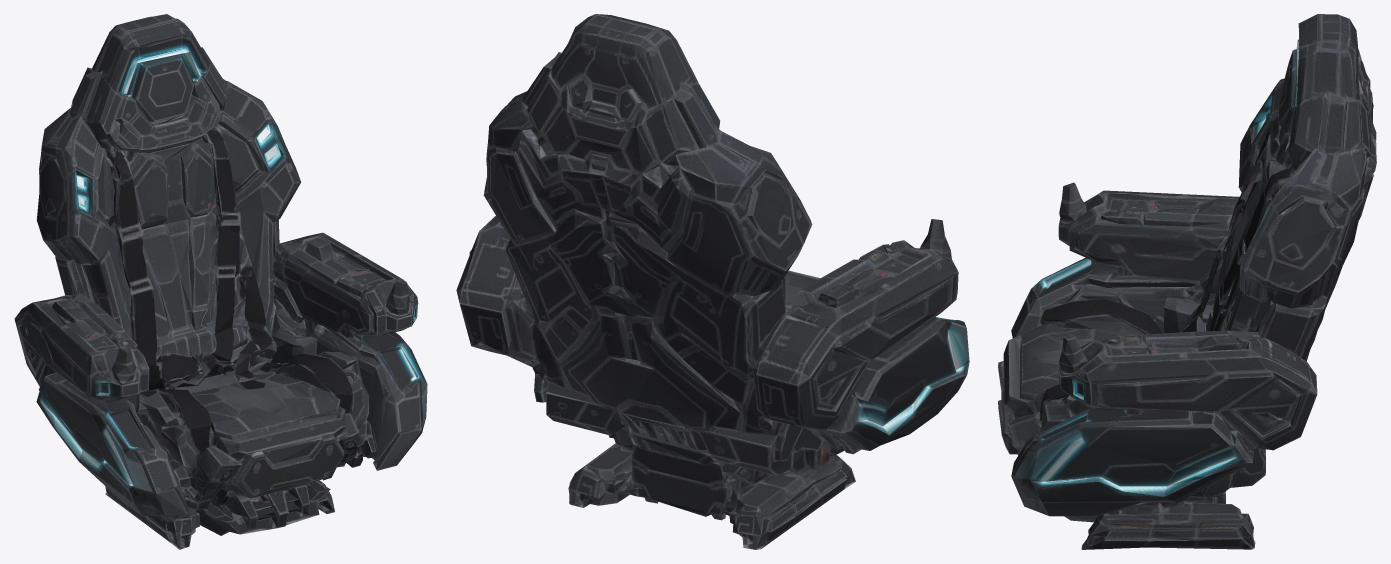
The model's file is heavy_pilot_seat.glb.
3 views of the same model, side by side, from view 1: azimuth 30°, elevation 25°; view 2: azimuth 150°, elevation 25°; view 3: azimuth 270°, elevation 25° (orthographic). The views are drawn at different scales.
Visible parts, largest first — view 1: output_unwrapped; view 2: output_unwrapped; view 3: output_unwrapped.
Part boxes in pixels (x1,y1,x2,y2): output_unwrapped: (14, 14, 427, 549); output_unwrapped: (456, 14, 969, 549); output_unwrapped: (998, 14, 1376, 549).
Size of the model in its own units: 1.51 by 1.89 by 1.35.
Materials: 1 (1 with a texture image).
